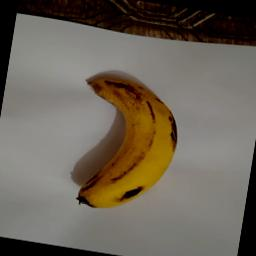Banana Unripe: (66, 70, 186, 218)
